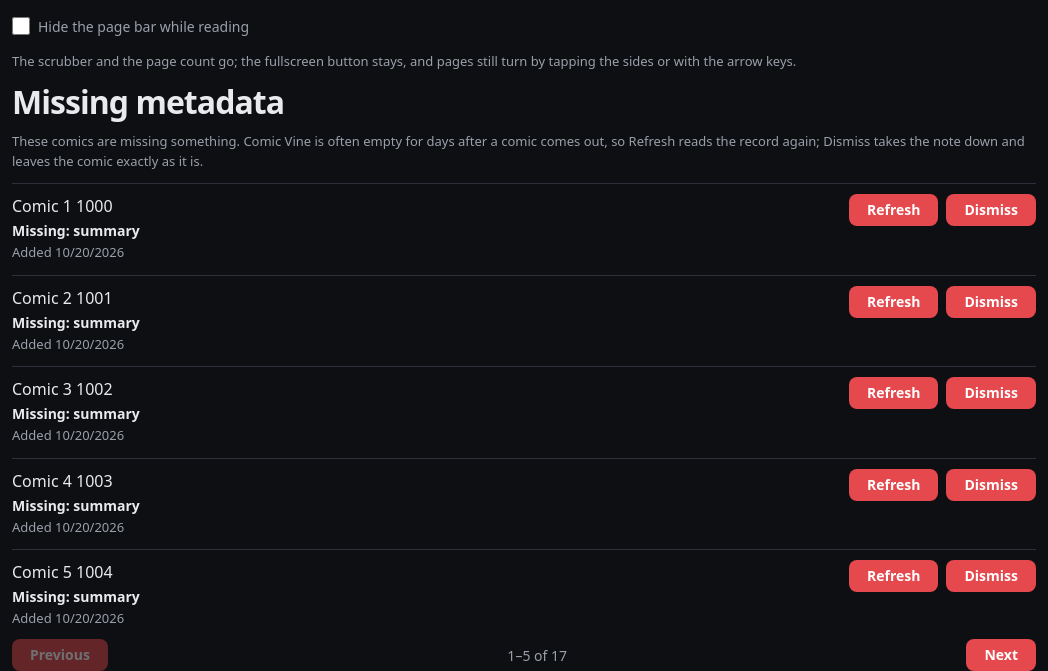
the position and total are shown, and the controls move between pages
This screenshot has width=1048, height=671.
(page scrolled)
Check: the text "1–5 of 17" is shown, box [507, 645, 567, 666]
Check: the button "Previous" is disabled, box [12, 640, 108, 670]
Click the button "Next": (1001, 656) [966, 640, 1036, 670]
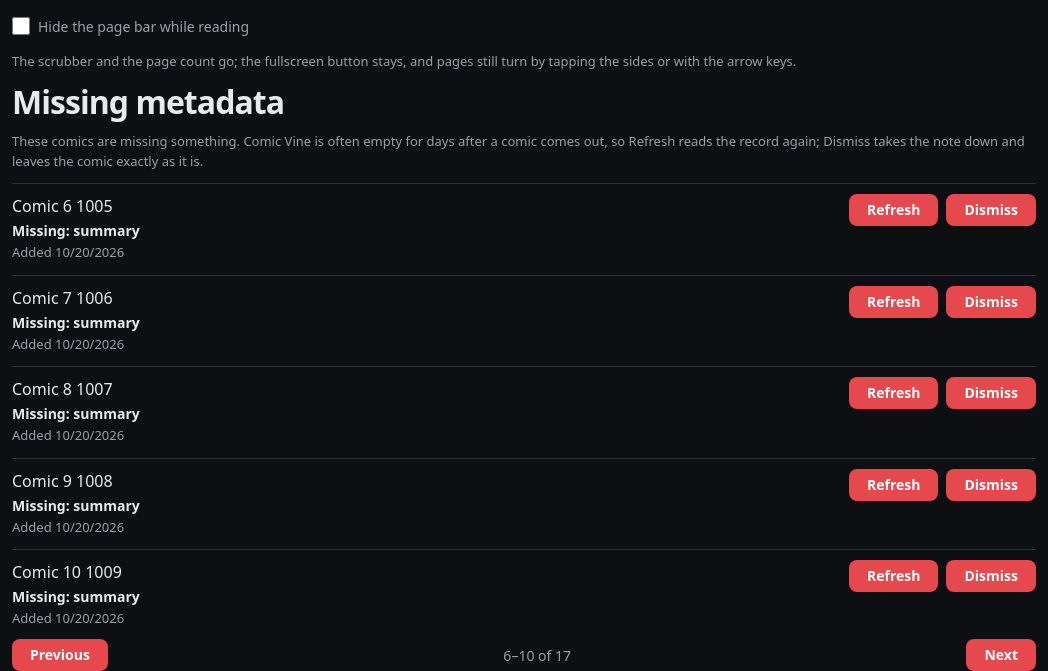
Check: the text "6–10 of 17" is shown, box [503, 645, 571, 666]
Check: the link "Comic 6" is shown, box [12, 196, 72, 218]
Click the button "Next": (1001, 656) [966, 640, 1036, 670]
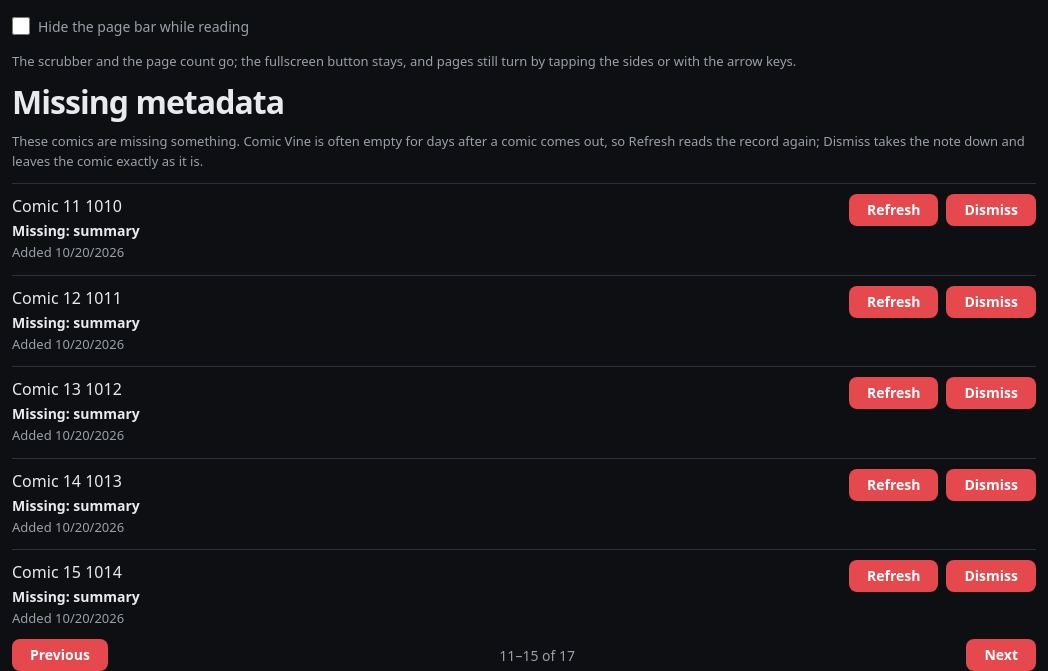
Click the button "Next": (1001, 656) [966, 640, 1036, 670]
(page scrolled)
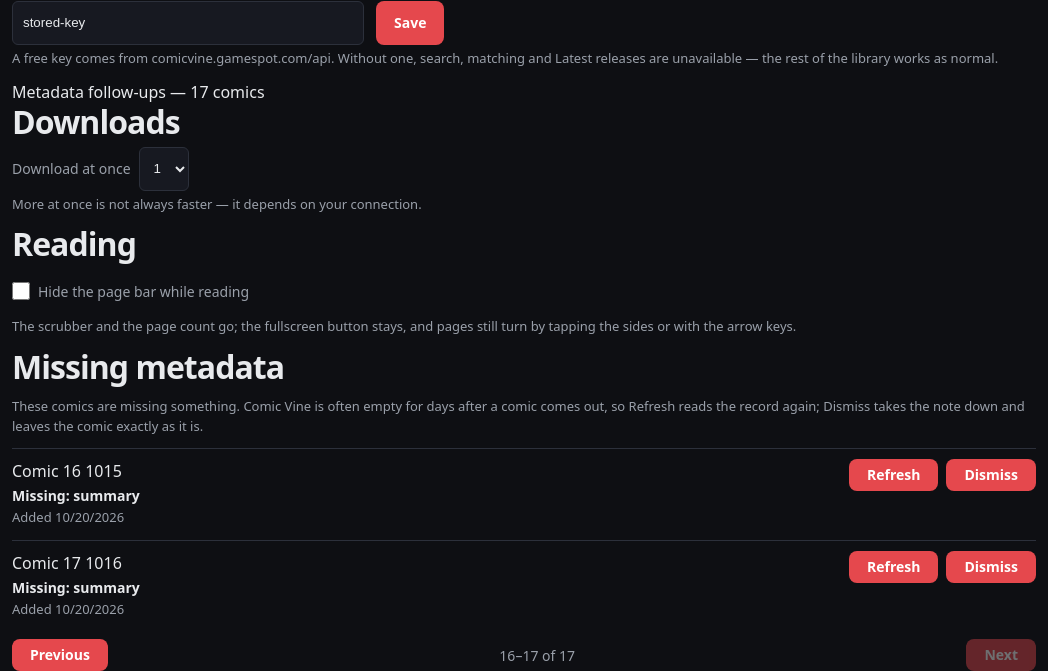
Check: the text "16–17 of 17" is shown, box [499, 645, 575, 666]
Check: the number of buttons "Dismiss" is 2, box [946, 460, 1036, 492]; [946, 551, 1036, 583]
Check: the button "Next" is disabled, box [966, 640, 1036, 670]
Click the button "Previous": (60, 656) [12, 640, 108, 670]
(page scrolled)
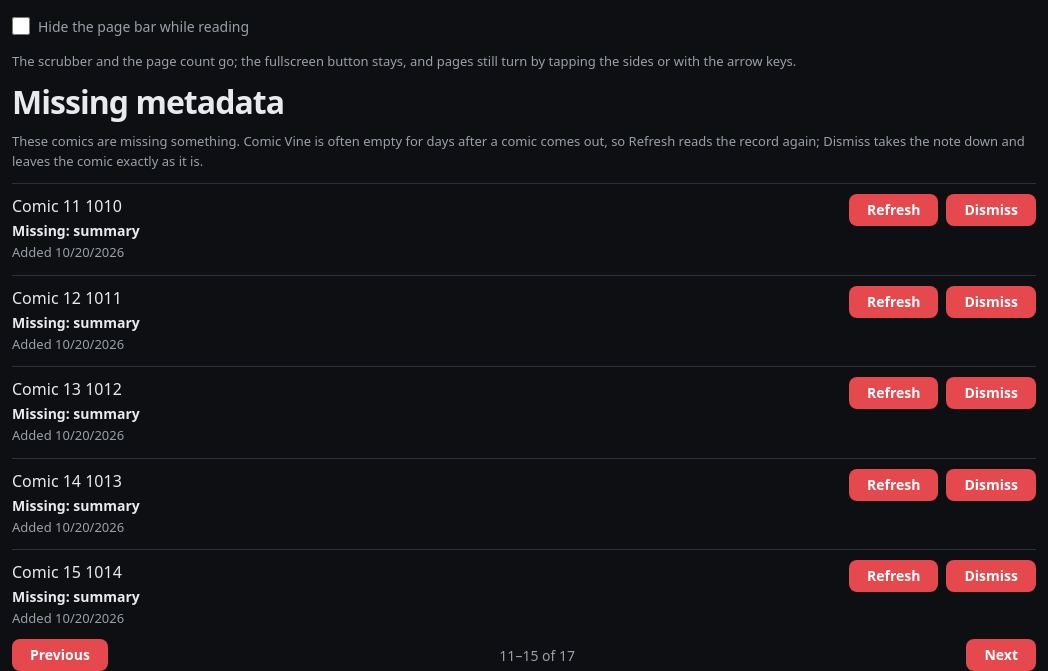
Check: the text "11–15 of 17" is shown, box [499, 645, 575, 666]
